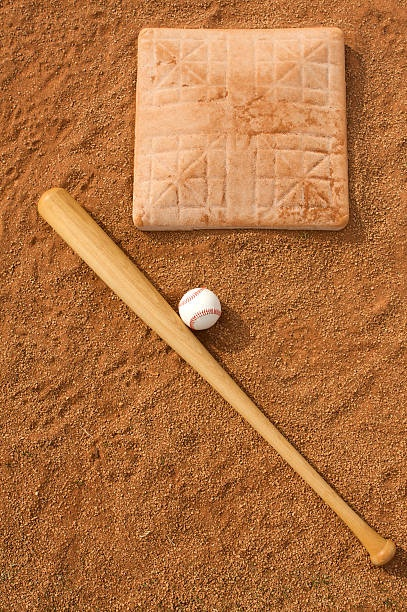bita: (45, 190, 391, 570)
